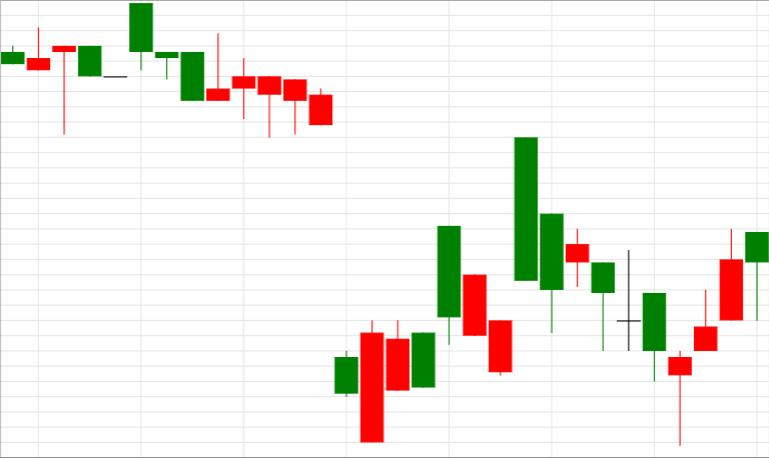bullish_engulfing_rise: (232, 59, 384, 442)
